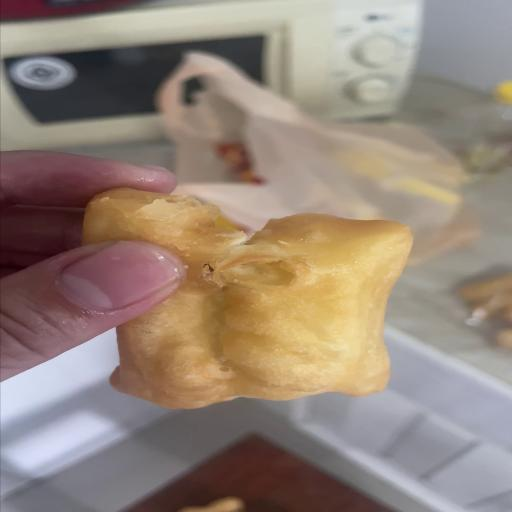street_golden_defect: (84, 187, 412, 408)
